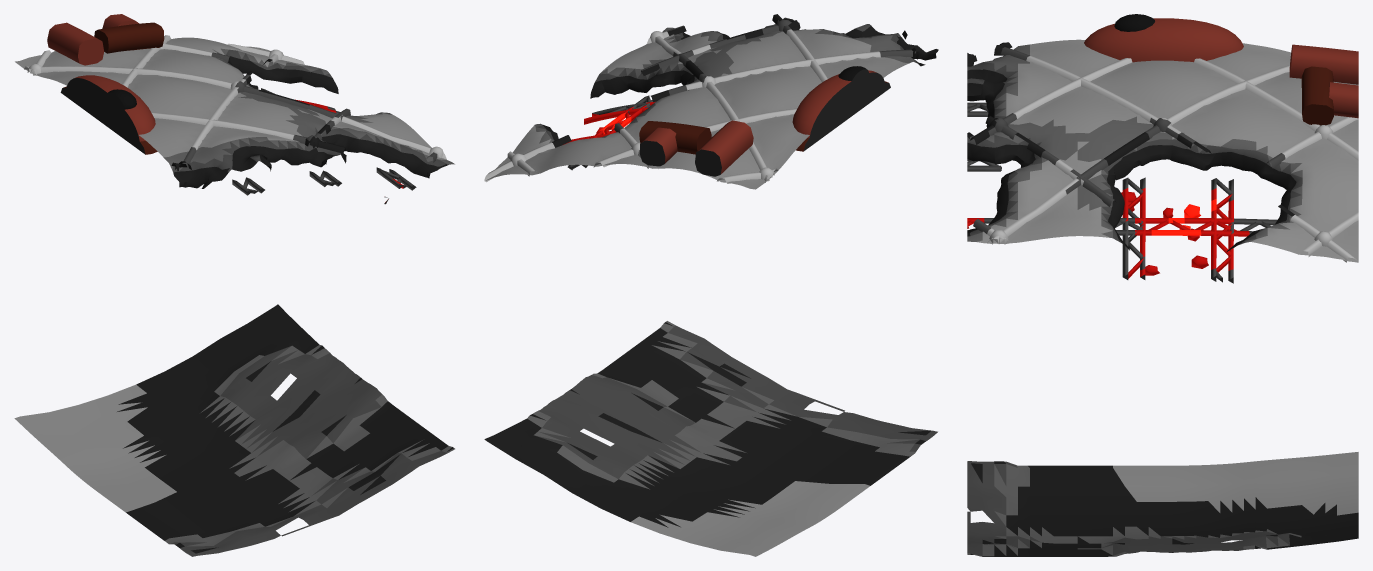
File: zeppelin_89.glb
3 views of the same model, side by side, from view 1: azimuth 30°, elevation 25°; view 2: azimuth 150°, elevation 25°; view 3: azimuth 270°, elevation 25° (orthographic). The views are drawn at different scales.
Visible parts, largest first — view 1: envelope.001, net_ropes.001, pod.001, gate_leg_in_r.001, gate_foot_r.001, framework.001, pod_collar.001, net_knots.001; view 2: envelope.001, net_ropes.001, pod.001, gate_leg_in_r.001, gate_foot_r.001, framework.001, gate_leg_out_r.001, pod_collar.001, net_knots.001; view 3: envelope.001, net_ropes.001, framework.001, pod.001, gate_leg_in_r.001, gate_foot_r.001, net_knots.001, gate_leg_out_r.001, embers.001, pod_visor.001.
Part boxes in pixels (left/top/right/bottom): envelope.001: left=14, top=37, right=454, bottom=556; net_ropes.001: left=24, top=35, right=446, bottom=170; pod.001: left=66, top=75, right=155, bottom=149; gate_leg_in_r.001: left=47, top=22, right=104, bottom=65; gate_foot_r.001: left=94, top=22, right=164, bottom=53; framework.001: left=232, top=88, right=416, bottom=195; pod_collar.001: left=60, top=86, right=157, bottom=154; net_knots.001: left=27, top=41, right=443, bottom=169; envelope.001: left=484, top=17, right=938, bottom=556; net_ropes.001: left=484, top=14, right=923, bottom=183; pod.001: left=792, top=70, right=884, bottom=146; gate_leg_in_r.001: left=695, top=120, right=753, bottom=176; gate_foot_r.001: left=639, top=121, right=711, bottom=154; framework.001: left=563, top=95, right=655, bottom=170; gate_leg_out_r.001: left=639, top=127, right=677, bottom=166; pod_collar.001: left=796, top=81, right=890, bottom=151; net_knots.001: left=510, top=19, right=921, bottom=181; envelope.001: left=967, top=39, right=1358, bottom=556; net_ropes.001: left=967, top=42, right=1358, bottom=262; framework.001: left=967, top=102, right=1277, bottom=283; pod.001: left=1084, top=18, right=1243, bottom=62; gate_leg_in_r.001: left=1289, top=44, right=1358, bottom=84; gate_foot_r.001: left=1301, top=66, right=1333, bottom=125; net_knots.001: left=989, top=43, right=1333, bottom=246; gate_leg_out_r.001: left=1329, top=82, right=1358, bottom=118; embers.001: left=967, top=191, right=1208, bottom=275; pod_visor.001: left=1114, top=14, right=1154, bottom=31.
Bounding box in the file's own units: 24 × 35.99 × 28.
